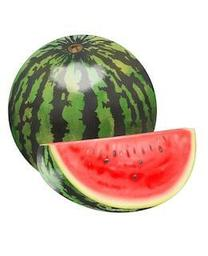watermelon: (5, 32, 158, 183), (33, 126, 197, 213)
